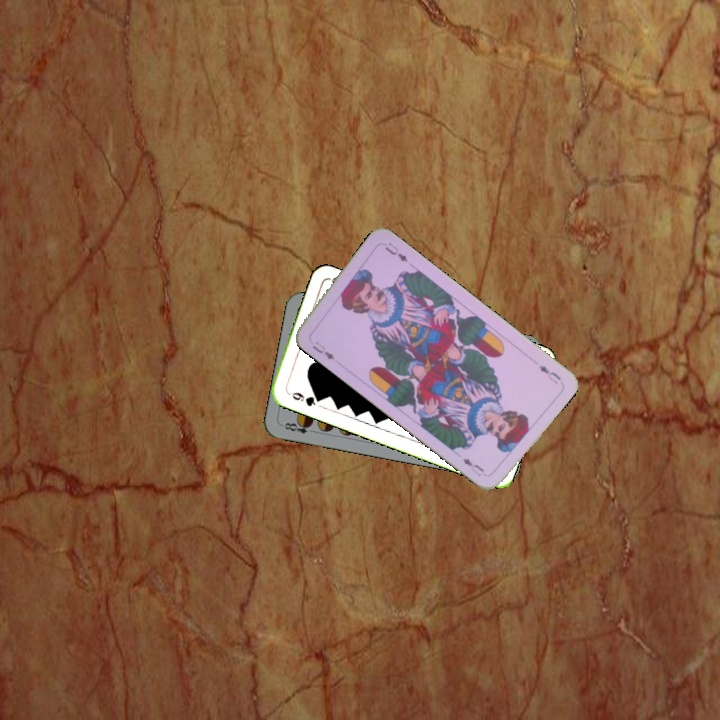E8: (278, 417, 318, 436)
EU: (308, 337, 337, 363), (535, 361, 564, 386)
G9: (288, 388, 324, 409)
